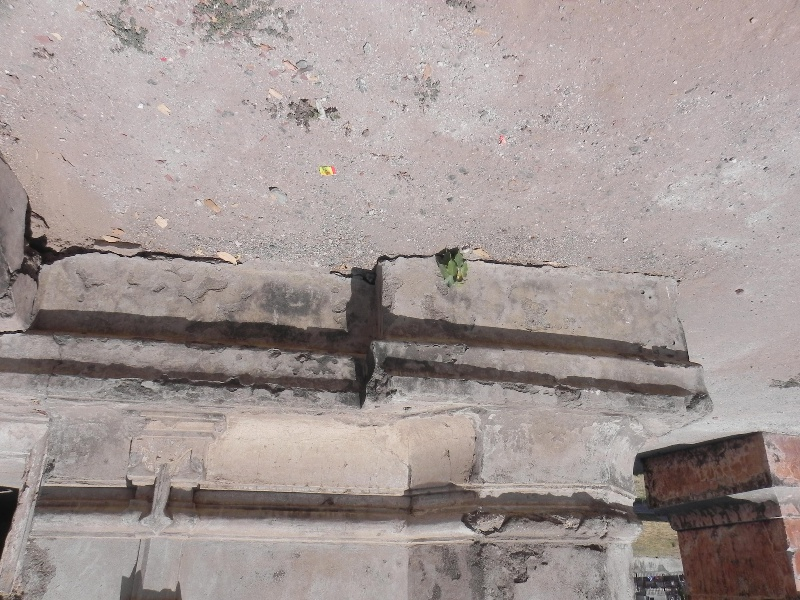Spalling: (456, 507, 621, 545)
